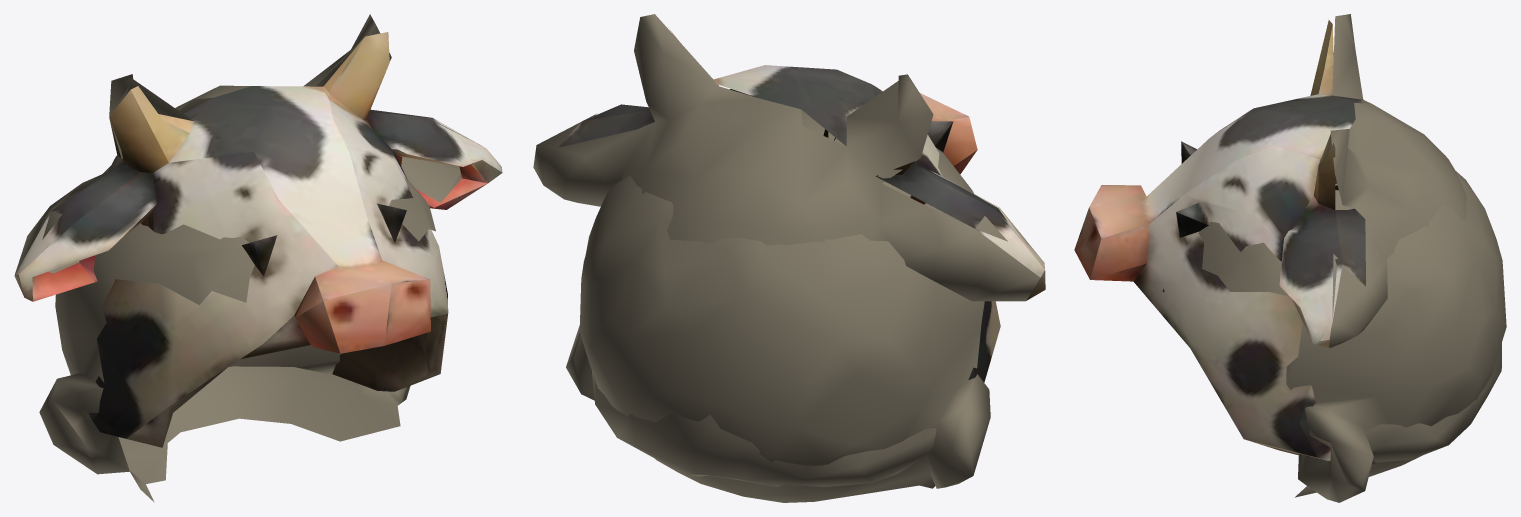
Rendered from cow.glb.
The picture shows the model from 3 angles, left to right: view 1: azimuth 30°, elevation 25°; view 2: azimuth 150°, elevation 25°; view 3: azimuth 270°, elevation 25°; orthographic projection. The views are drawn at different scales.
Parts seen in each view (by area): view 1: geometry_0, HoodAnatomicalLining; view 2: HoodAnatomicalLining, geometry_0; view 3: geometry_0, HoodAnatomicalLining.
Boxes of the visible parts, bbox=[...] form: geometry_0: bbox=[14, 14, 502, 447]; HoodAnatomicalLining: bbox=[39, 166, 435, 502]; HoodAnatomicalLining: bbox=[566, 110, 990, 502]; geometry_0: bbox=[533, 14, 1045, 487]; geometry_0: bbox=[1074, 14, 1501, 462]; HoodAnatomicalLining: bbox=[1198, 171, 1506, 502].
Bounding box in the file's own units: 0.6314 × 0.5103 × 0.5199.
Materials: 2 (1 with a texture image).
